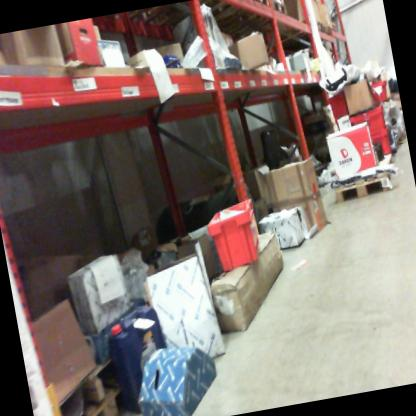pallet: (68, 337, 145, 408), (55, 369, 145, 416), (326, 162, 404, 210), (210, 0, 291, 46), (252, 16, 330, 49), (179, 0, 270, 24), (329, 19, 339, 41), (323, 21, 333, 42), (267, 0, 285, 6)
small_load_carrier: (204, 194, 271, 277), (336, 103, 390, 140), (366, 126, 397, 163), (359, 76, 391, 109)
